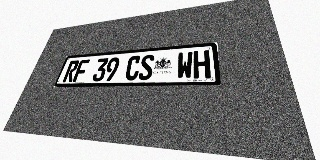3: (91, 58, 109, 81)
9: (103, 57, 121, 81)
C: (124, 55, 141, 81)
F: (72, 59, 90, 82)
H: (193, 50, 211, 79)
R: (62, 60, 80, 82)
S: (138, 54, 155, 80)
W: (176, 51, 193, 79)
